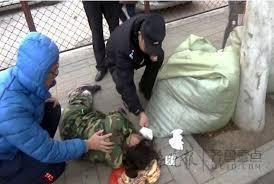Fall-Detected: (56, 76, 163, 179)
